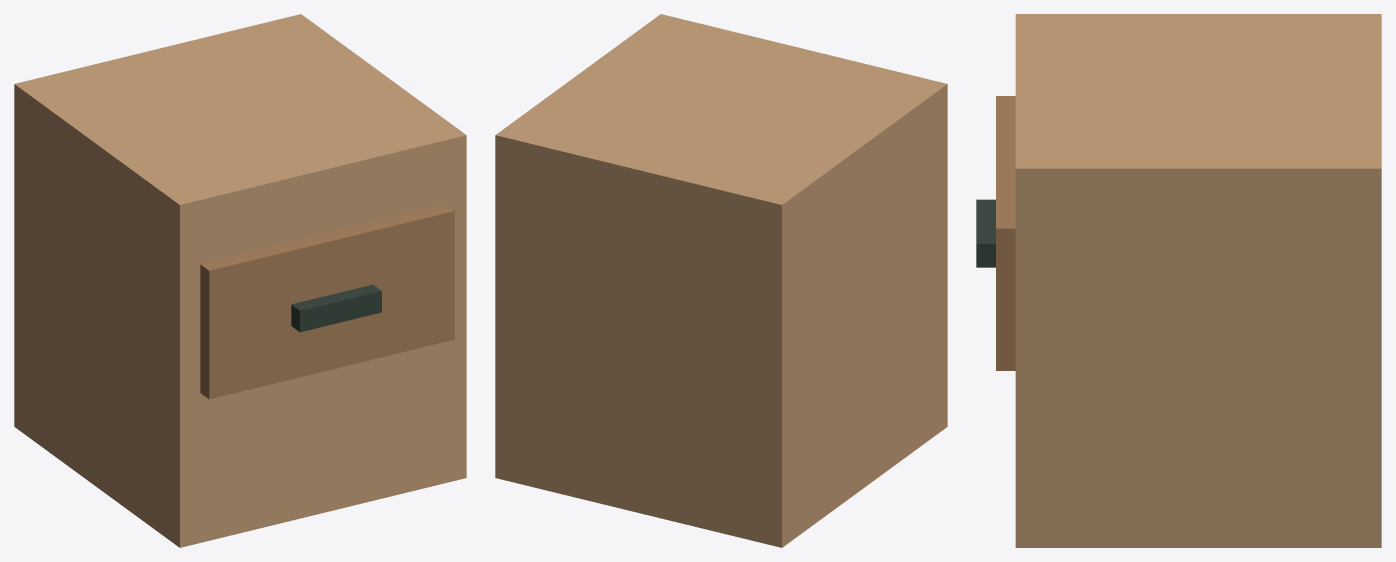
File: nightstand.glb
3 views of the same model, side by side, from view 1: azimuth 30°, elevation 25°; view 2: azimuth 150°, elevation 25°; view 3: azimuth 270°, elevation 25° (orthographic). The views are drawn at different scales.
Parts seen in each view (by area): view 1: Nightstand; view 2: Nightstand; view 3: Nightstand.
Boxes of the visible parts, left/top/right/bottom form: Nightstand: left=14, top=14, right=466, bottom=547; Nightstand: left=495, top=14, right=947, bottom=547; Nightstand: left=976, top=14, right=1381, bottom=547.
Size of the model in its own units: 0.28 by 0.32 by 0.31.
